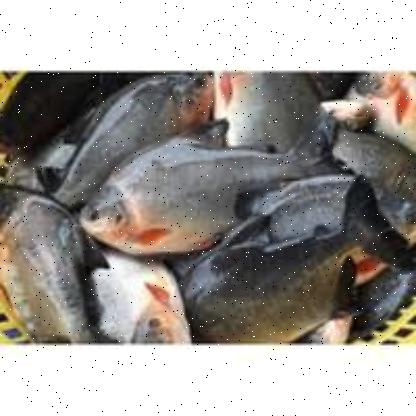ikan-pacu: (85, 132, 313, 250)
